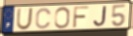5: (111, 4, 127, 28)
C: (35, 7, 53, 30)
F: (72, 6, 90, 29)
J: (93, 6, 108, 28)
O: (54, 7, 71, 30)
U: (16, 7, 35, 31)
